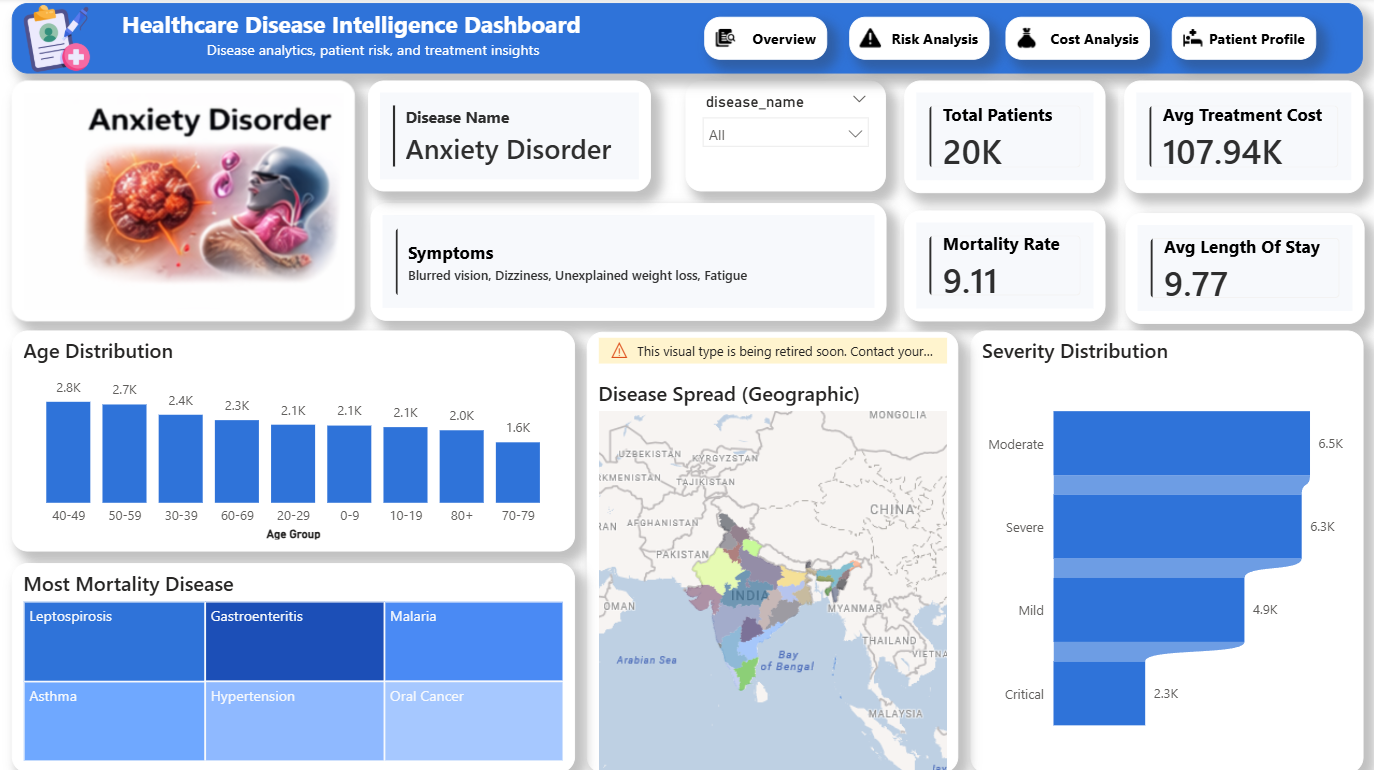

The dashboard page shown, as its layout file describes it:
{"tool":"powerbi","page":{"name":"Patients Demographics","canvas":[1280,720],"ordinal":0},"visuals":[{"type":"slicer","fields":{"Values":["Disease Info.disease_name"]},"box":[640,77,186.5,103.5],"z":0},{"type":"shape","box":[12.9,4.3,1257.1,65.7],"z":1000},{"type":"textbox","box":[110,4.3,477.1,65.7],"z":2000},{"type":"simpleImageEBC4593F96F1425FB3D84C5BF02B5075","fields":{"imageURL":["Disease Info.Image"]},"box":[12.3,76.8,319.5,224.3],"z":3000},{"type":"cardVisual","fields":{"Data":["Min(Disease Info.symptoms)"]},"box":[346.5,191.3,480,109.5],"z":4000},{"type":"cardVisual","fields":{"Data":["Min(Disease Info.disease_name)"]},"box":[344.1,77,263.5,103.5],"z":5000},{"type":"cardVisual","fields":{"Data":["public disease_cost_analysis.Total_Patients"]},"box":[843.4,76.8,187.4,104.5],"z":6000},{"type":"cardVisual","fields":{"Data":["public disease_cost_analysis.Mortality Rate"]},"box":[843.4,198.2,187.4,102.9],"z":7000},{"type":"cardVisual","fields":{"Data":["public disease_cost_analysis.Avg Treatment Cost"]},"box":[1047.7,76.8,222.8,104.5],"z":8000},{"type":"cardVisual","fields":{"Data":["public disease_cost_analysis.Average Length Of Stay"]},"box":[1049.3,199.7,222.8,102.9],"z":9000},{"type":"clusteredColumnChart","title":"Age Distribution","fields":{"Category":["public healthcare_data.age_group"],"Y":["CountNonNull(public healthcare_data.patient_id)"]},"box":[12.3,308.8,523.9,205.9],"z":10000},{"type":"barChart","title":"Severity Distribution","fields":{"Category":["public healthcare_data.severity"],"Y":["CountNonNull(public healthcare_data.patient_id)"]},"box":[904.9,308.8,365.6,411.7],"z":11000},{"type":"azureMap","title":"Disease Spread (Geographic)","fields":{"Category":["public healthcare_data.state"],"Series":["public healthcare_data.city"]},"box":[547.1,310,345.7,410],"z":14000},{"type":"treemap","title":"Most Mortality Disease","fields":{"Group":["public healthcare_data.disease_name"],"Values":["CountNonNull(public healthcare_data.patient_id)"]},"box":[12.3,525.4,523.9,195.1],"z":15000},{"type":"actionButton","box":[657.1,17.1,114.3,40],"z":27000},{"type":"actionButton","box":[791.4,17.1,130,40],"z":28000},{"type":"actionButton","box":[937.1,17.1,134.3,40],"z":29000},{"type":"actionButton","box":[1091.4,17.1,134.3,40],"z":30000},{"type":"image","box":[0,4.3,110,65.7],"z":31000}]}

Visuals, with their boxes in screenshot pixels (x1, y1, x2, y2), scaled from the page's 1280x720 canvas onto the 1374x770 screenshot:
slicer - Disease Info.disease_name: box=[687, 82, 887, 193]
shape: box=[14, 5, 1363, 75]
textbox: box=[118, 5, 630, 75]
simpleImageEBC4593F96F1425FB3D84C5BF02B5075 - Disease Info.Image: box=[13, 82, 356, 322]
cardVisual - Min(Disease Info.symptoms): box=[372, 205, 887, 322]
cardVisual - Min(Disease Info.disease_name): box=[369, 82, 652, 193]
cardVisual - public disease_cost_analysis.Total_Patients: box=[905, 82, 1106, 194]
cardVisual - public disease_cost_analysis.Mortality Rate: box=[905, 212, 1106, 322]
cardVisual - public disease_cost_analysis.Avg Treatment Cost: box=[1125, 82, 1364, 194]
cardVisual - public disease_cost_analysis.Average Length Of Stay: box=[1126, 214, 1366, 324]
"Age Distribution" clusteredColumnChart: box=[13, 330, 576, 550]
"Severity Distribution" barChart: box=[971, 330, 1364, 769]
"Disease Spread (Geographic)" azureMap: box=[587, 332, 958, 769]
"Most Mortality Disease" treemap: box=[13, 562, 576, 769]
actionButton: box=[705, 18, 828, 61]
actionButton: box=[850, 18, 989, 61]
actionButton: box=[1006, 18, 1150, 61]
actionButton: box=[1172, 18, 1316, 61]
image: box=[0, 5, 118, 75]
